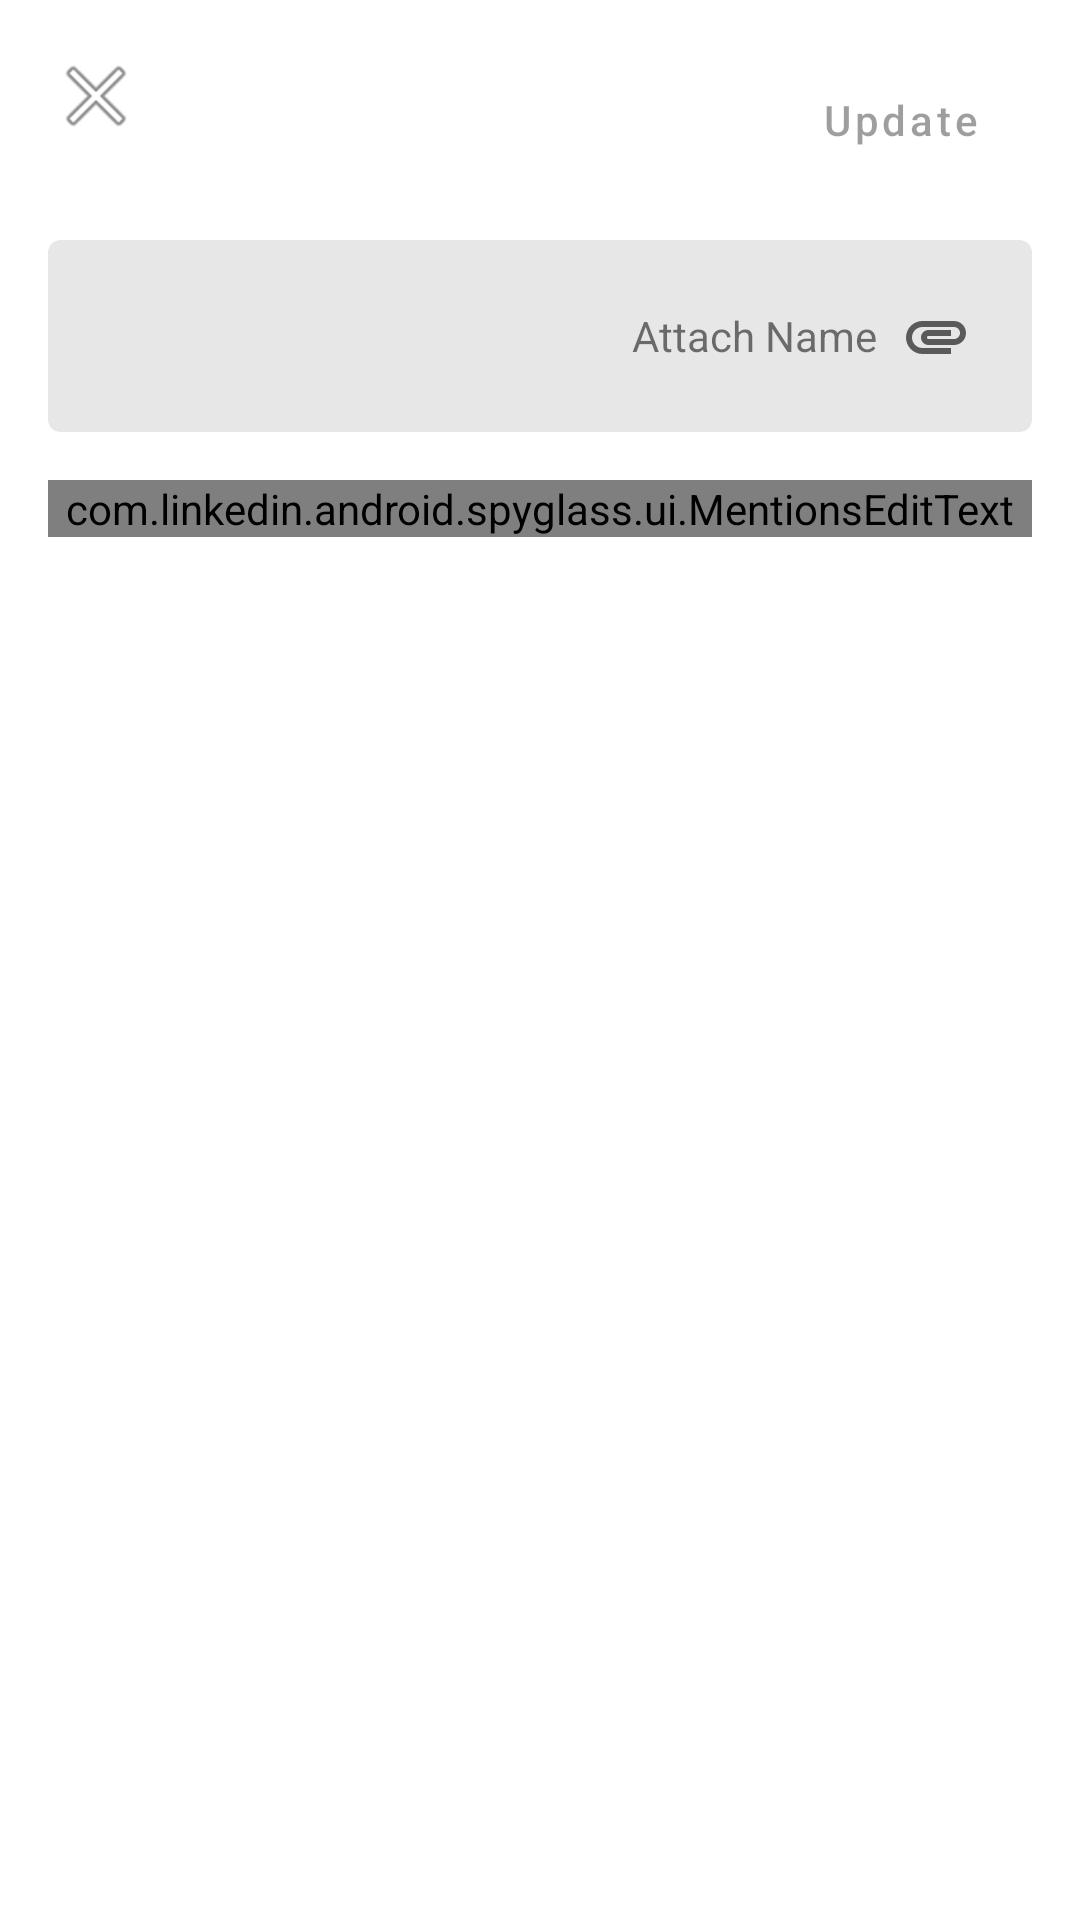

Point at icon controls on the screen. Image size 1080 × 1920, points as (x=x, y=y).
attachment: (x=936, y=337)
close clear cancel: (x=96, y=96)
